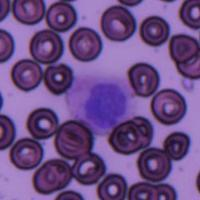M: (66, 71, 137, 136)
